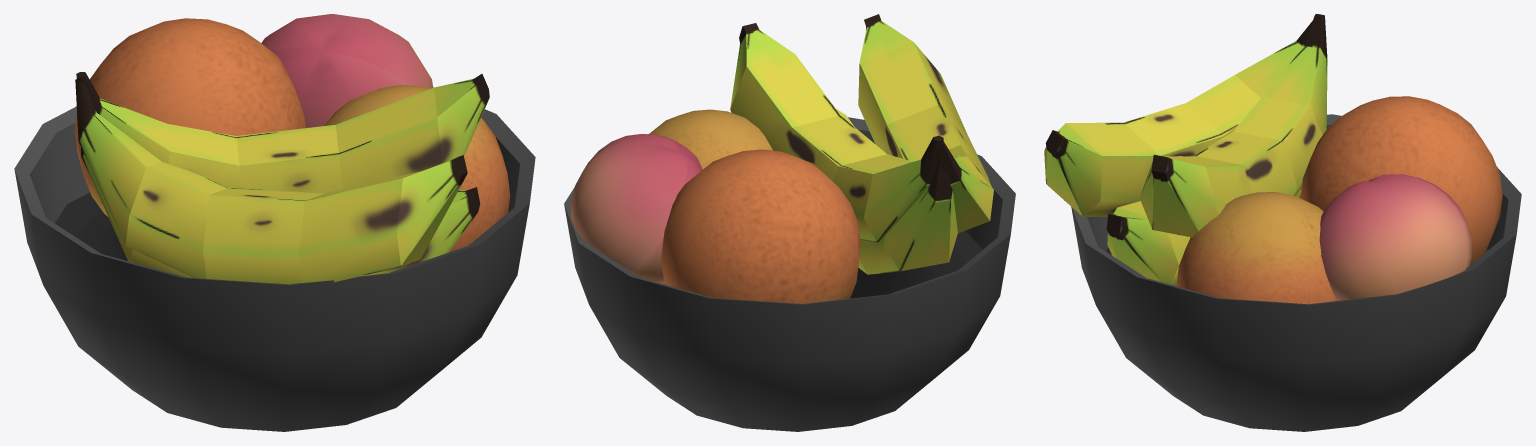
Rendered from Bowl de frutas.fbx.
3 views of the same model, side by side, from view 1: azimuth 30°, elevation 25°; view 2: azimuth 150°, elevation 25°; view 3: azimuth 270°, elevation 25° (orthographic). The views are drawn at different scales.
Visible parts, largest first — view 1: pSphere1, pCube1, pasted__pCube1, pSphere4, pSphere2, pSphere3, pasted__pasted__pCube1; view 2: pSphere1, pSphere4, pasted__pCube1, pCube1, pSphere2, pasted__pasted__pCube1, pSphere3; view 3: pSphere1, pasted__pCube1, pSphere4, pCube1, pSphere2, pSphere3, pasted__pasted__pCube1.
Part boxes in pixels (box(x1,y1,x2,y2)): pSphere1: box(14, 106, 535, 431); pCube1: box(75, 79, 467, 284); pasted__pCube1: box(76, 72, 489, 193); pSphere4: box(75, 18, 305, 216); pSphere2: box(261, 14, 433, 127); pSphere3: box(324, 85, 510, 252); pasted__pasted__pCube1: box(81, 147, 480, 277); pSphere1: box(564, 117, 1015, 431); pSphere4: box(661, 149, 860, 303); pasted__pCube1: box(730, 23, 943, 242); pCube1: box(858, 14, 993, 233); pSphere2: box(571, 134, 702, 284); pasted__pasted__pCube1: box(836, 109, 957, 274); pSphere3: box(649, 109, 772, 169); pSphere1: box(1071, 114, 1521, 431); pasted__pCube1: box(1139, 14, 1327, 237); pSphere4: box(1300, 96, 1502, 265); pCube1: box(1044, 20, 1312, 216); pSphere2: box(1319, 174, 1471, 300); pSphere3: box(1176, 192, 1336, 304); pasted__pasted__pCube1: box(1106, 188, 1301, 285).
Size of the model in its own units: 2.11 by 1.47 by 2.23.
